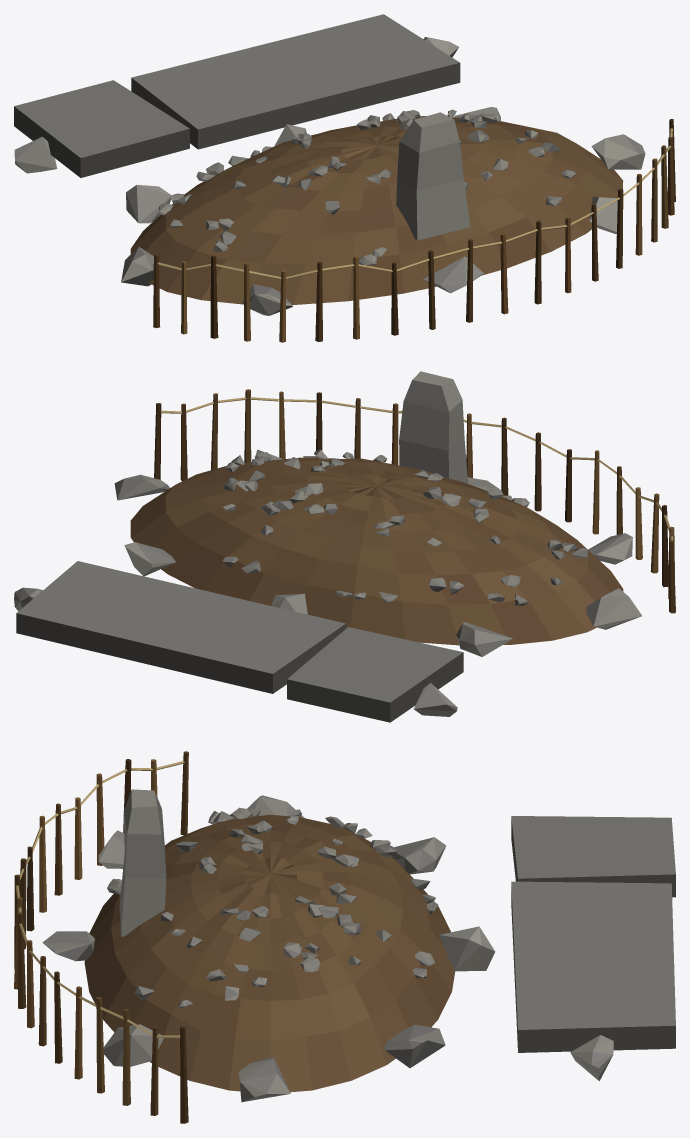
File: burial_3_finito.glb
3 views of the same model, one above another, from view 1: azimuth 30°, elevation 25°; view 2: azimuth 150°, elevation 25°; view 3: azimuth 270°, elevation 25° (orthographic). The views are drawn at different scales.
Visible parts, largest first — view 1: burial_3_finito; view 2: burial_3_finito; view 3: burial_3_finito.
Boxes of the visible parts, bbox=[...] form: burial_3_finito: bbox=[14, 14, 675, 342]; burial_3_finito: bbox=[14, 371, 675, 722]; burial_3_finito: bbox=[14, 751, 675, 1123].
Size of the model in its own units: 8.23 by 2.35 by 7.84.
